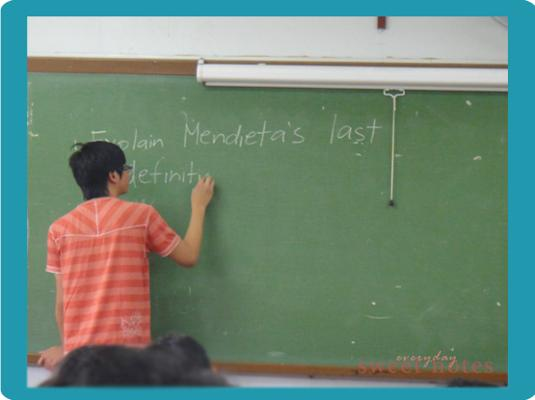person: (46, 141, 214, 374)
